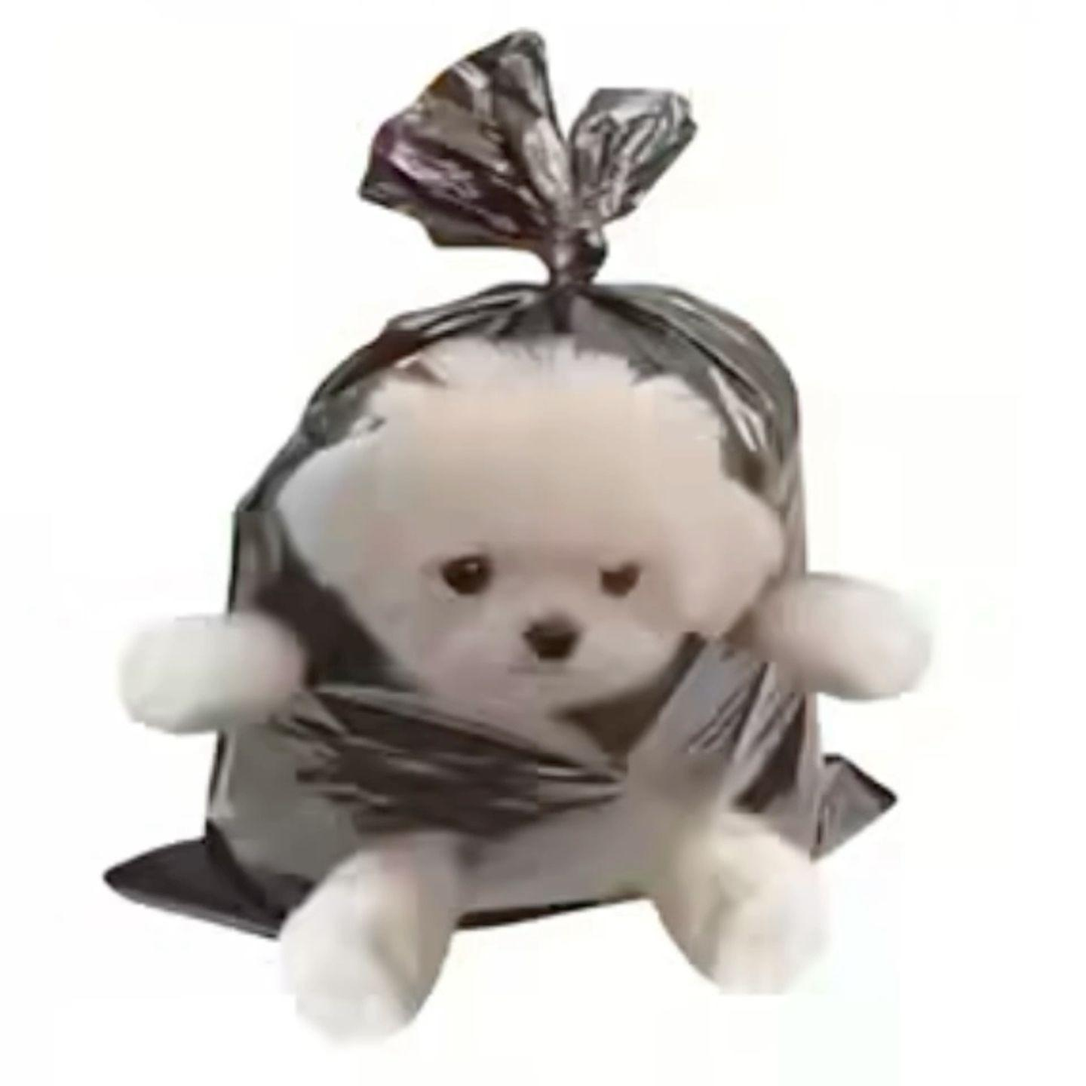puppy-dog: (115, 340, 941, 1052)
